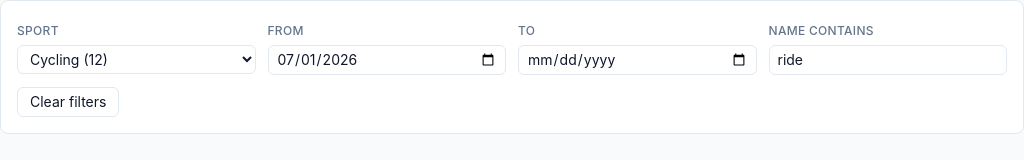
Test case: FilterBar › clears everything at once, the search box included
The width and height of the screenshot is (1024, 160).
Click the button "Clear filters" at (68, 102), box [17, 87, 119, 117]
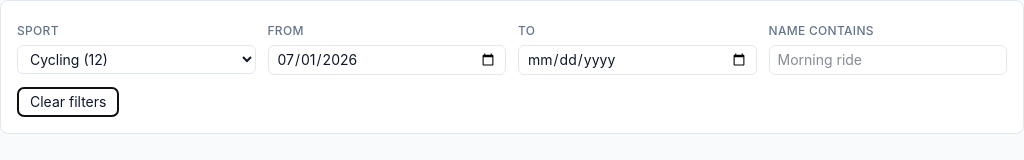
Check: the search field labelled "Name contains" is empty, box [768, 45, 1007, 75]
